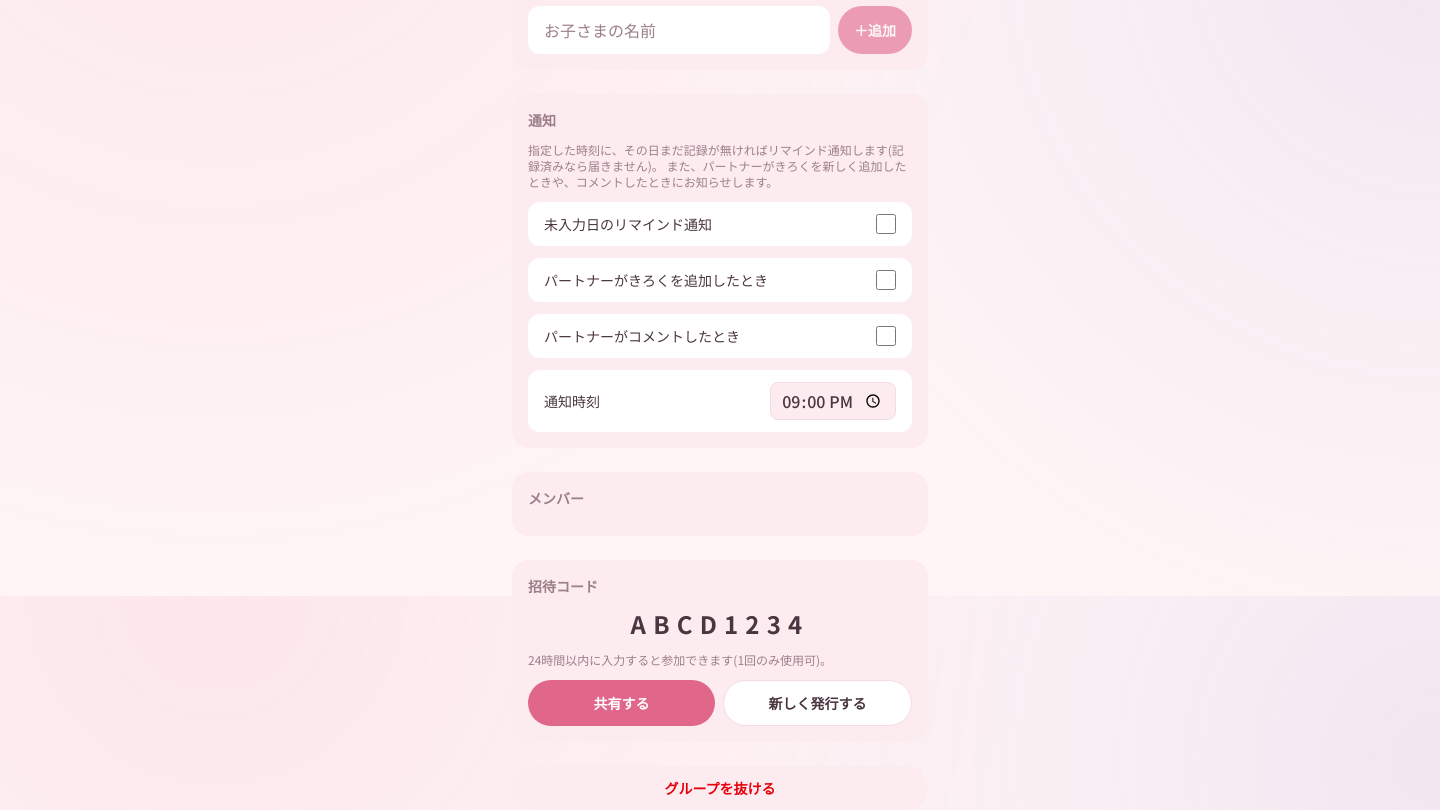
Scenario: GroupPage: 招待コードの共有 › クリップボードが使えなければ手動で控える案内を出す
(page scrolled)
Click the button "共有する" at (622, 703), box x1=528 y1=680 x2=715 y2=726
(page scrolled)
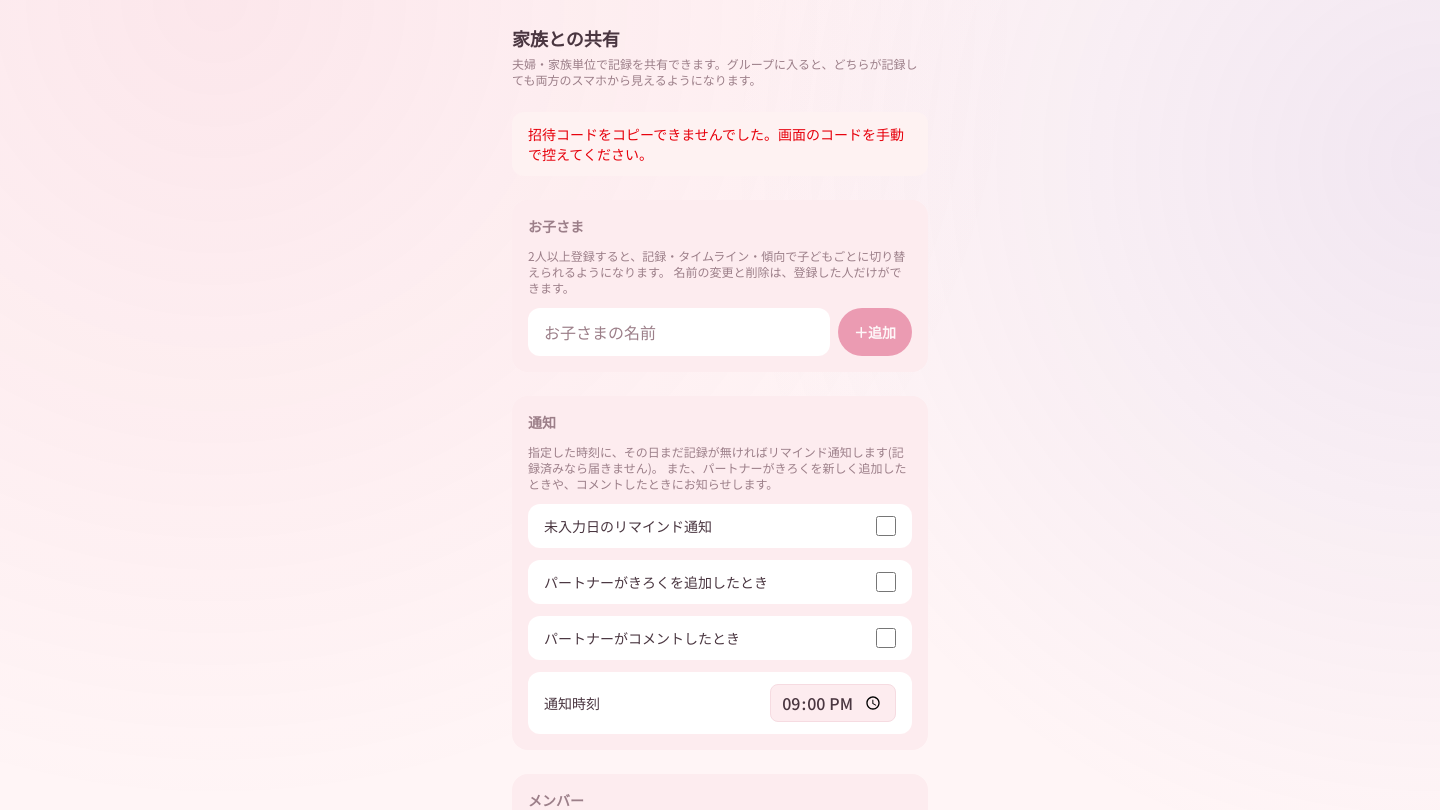
Check: the text "招待コードをコピーできませんでした。画面のコードを手動で控えてください。" is shown, box x1=512 y1=112 x2=928 y2=176
